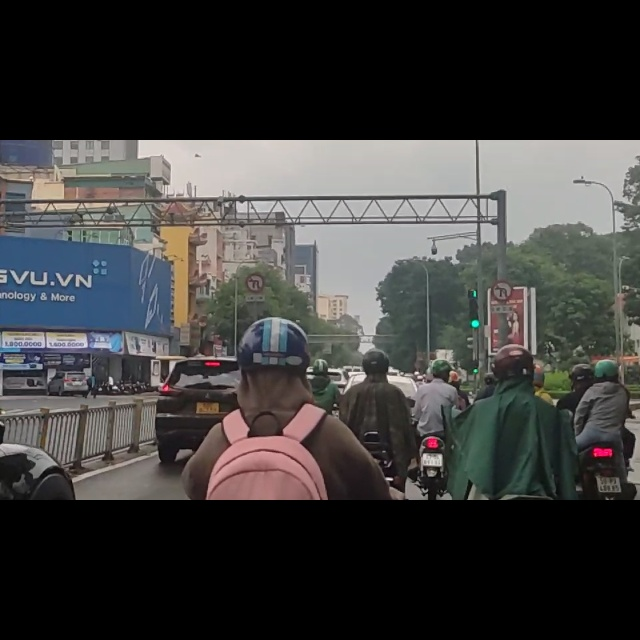bien_cam: (493, 249, 512, 288), (246, 236, 266, 271)
